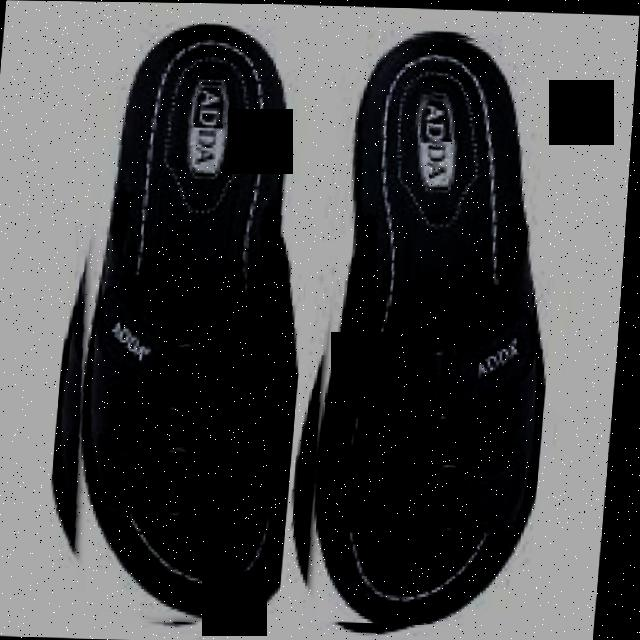shoe: (48, 16, 578, 639), (53, 19, 328, 625), (304, 28, 575, 626)
